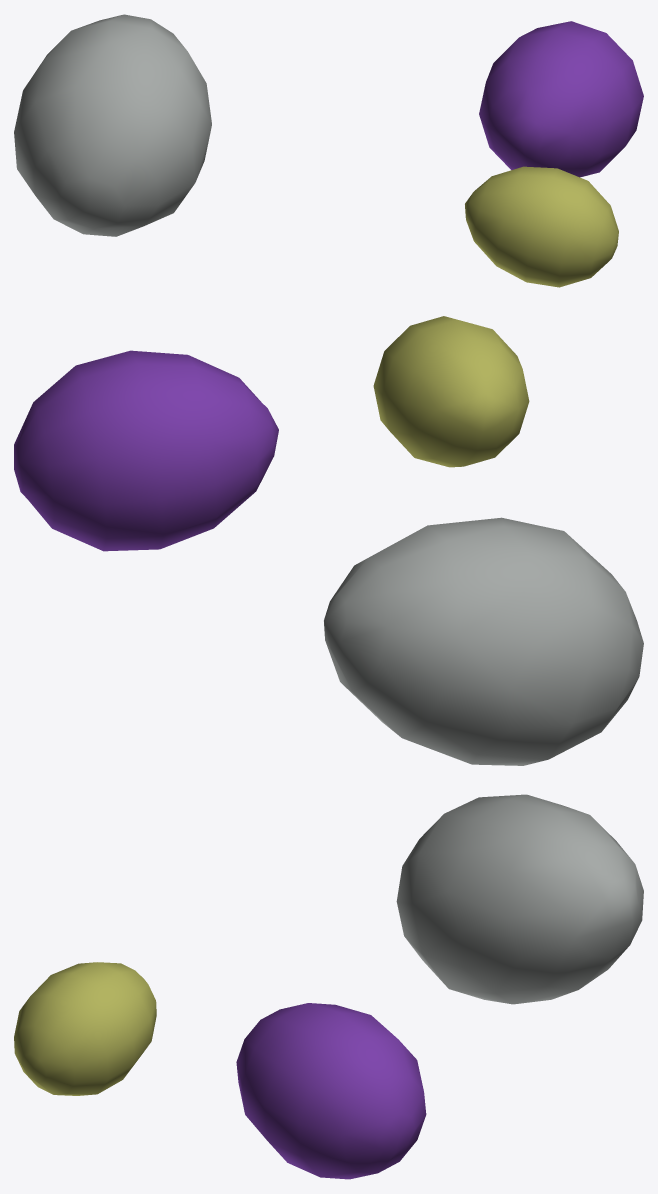
3 views of the same model, one above another, from view 1: azimuth 30°, elevation 25°; view 2: azimuth 150°, elevation 25°; view 3: azimuth 270°, elevation 25° (orthographic). The views are drawn at different scales.
Visible parts, largest first — view 1: G:\FFXIV-MapTools\exports\f1t2\bgcommon\world\eas\001\bgpart; view 2: G:\FFXIV-MapTools\exports\f1t2\bgcommon\world\eas\001\bgpart; view 3: G:\FFXIV-MapTools\exports\f1t2\bgcommon\world\eas\001\bgpart.
Boxes of the visible parts, <box> form: G:\FFXIV-MapTools\exports\f1t2\bgcommon\world\eas\001\bgpart: <box>14,14,643,287</box>; G:\FFXIV-MapTools\exports\f1t2\bgcommon\world\eas\001\bgpart: <box>14,316,643,765</box>; G:\FFXIV-MapTools\exports\f1t2\bgcommon\world\eas\001\bgpart: <box>14,794,643,1179</box>.
Bounding box in the file's own units: 1.09 × 0.35 × 1.03.
